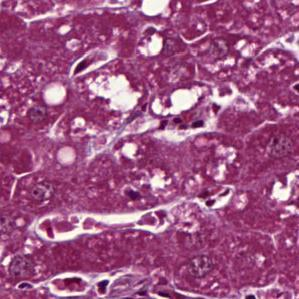ballooning: (129, 21, 170, 63), (42, 268, 94, 298)
